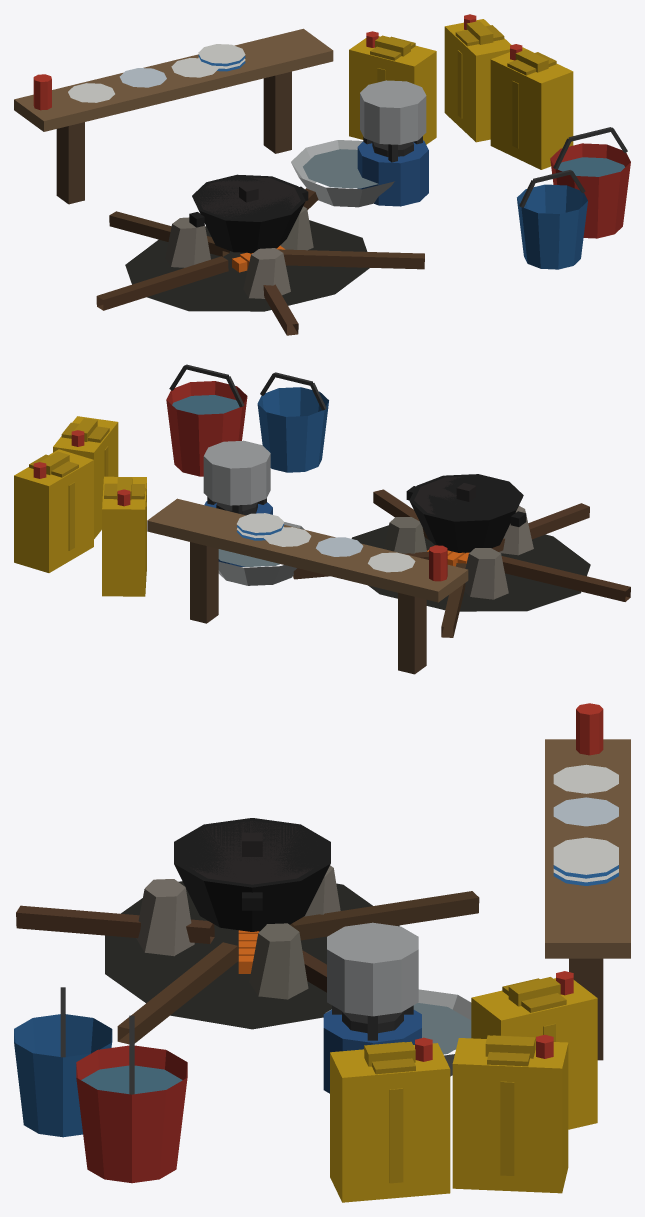
File: ns_camp_kitchen.glb
The picture shows the model from 3 angles, top to bottom: view 1: azimuth 30°, elevation 25°; view 2: azimuth 150°, elevation 25°; view 3: azimuth 270°, elevation 25°; orthographic projection. The views are drawn at different scales.
Visible parts, largest first — view 1: ns_camp_kitchen; view 2: ns_camp_kitchen; view 3: ns_camp_kitchen.
Part boxes in pixels (x1,y1,x2,y2): ns_camp_kitchen: (14, 14, 630, 335); ns_camp_kitchen: (14, 364, 630, 674); ns_camp_kitchen: (14, 703, 630, 1202).
Size of the model in its own units: 2.47 by 0.58 by 1.79.
